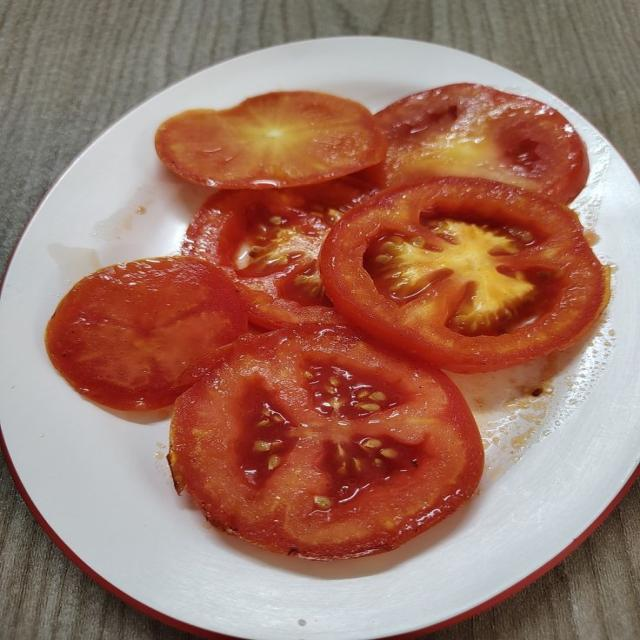sliced tomatoe: (168, 326, 483, 559), (320, 178, 608, 372), (46, 257, 246, 410), (182, 177, 369, 328), (366, 84, 588, 202), (155, 91, 386, 189)
